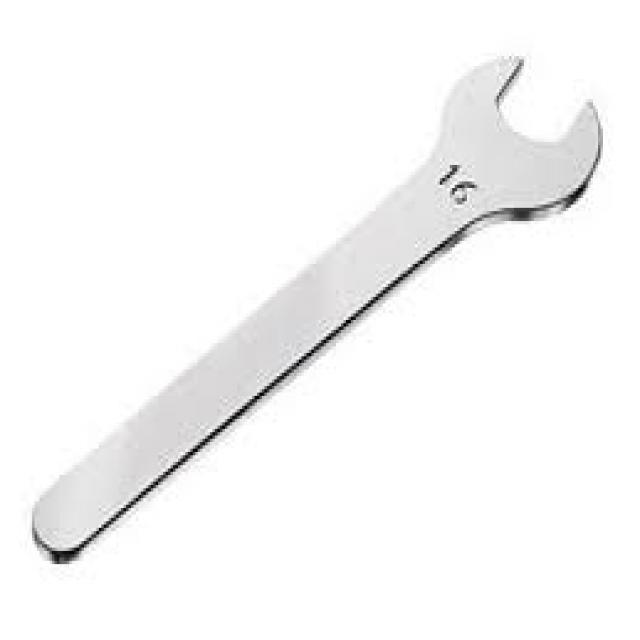wrench: (20, 46, 612, 575)
